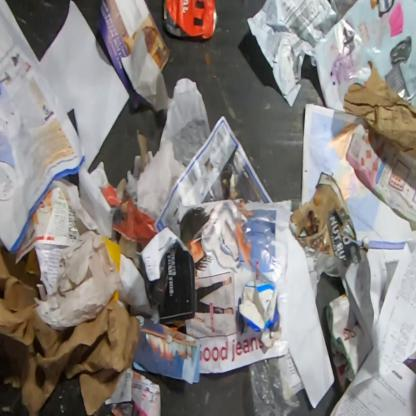cardboard: (0, 239, 142, 415), (343, 59, 415, 152)
metal: (162, 0, 218, 39)
soft_plastic: (248, 355, 302, 416)
